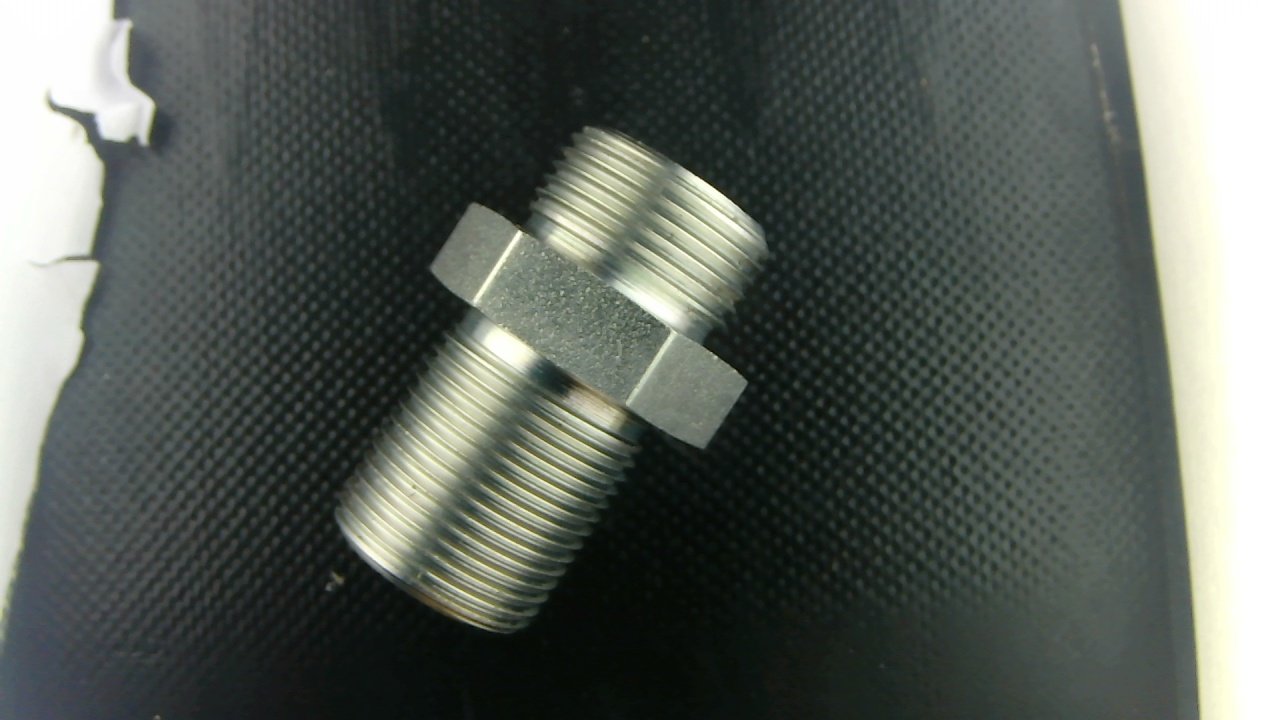okay_adapter: (336, 126, 768, 632)
